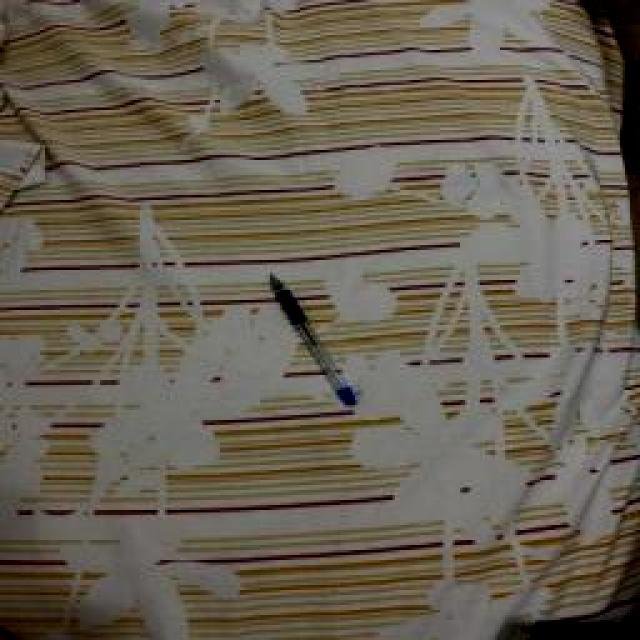pen: (265, 272, 360, 408)
